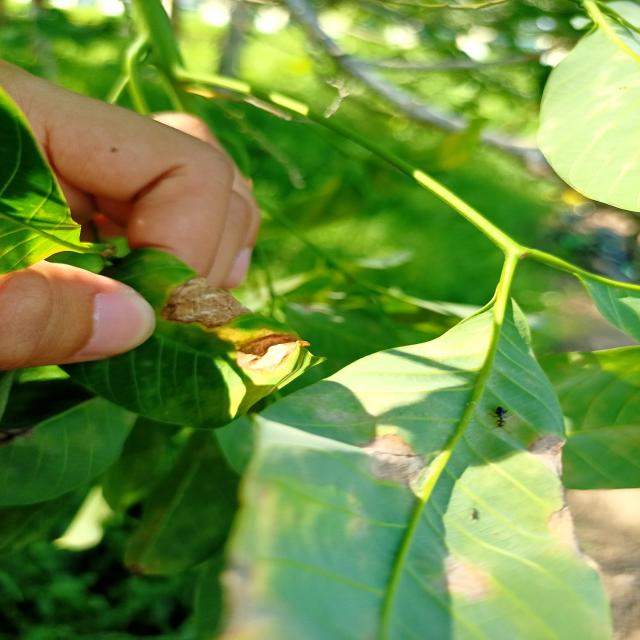Leaf-Blight: (161, 274, 251, 332), (217, 328, 310, 372), (355, 434, 426, 484), (432, 555, 489, 602), (522, 434, 566, 475), (547, 506, 579, 550)
